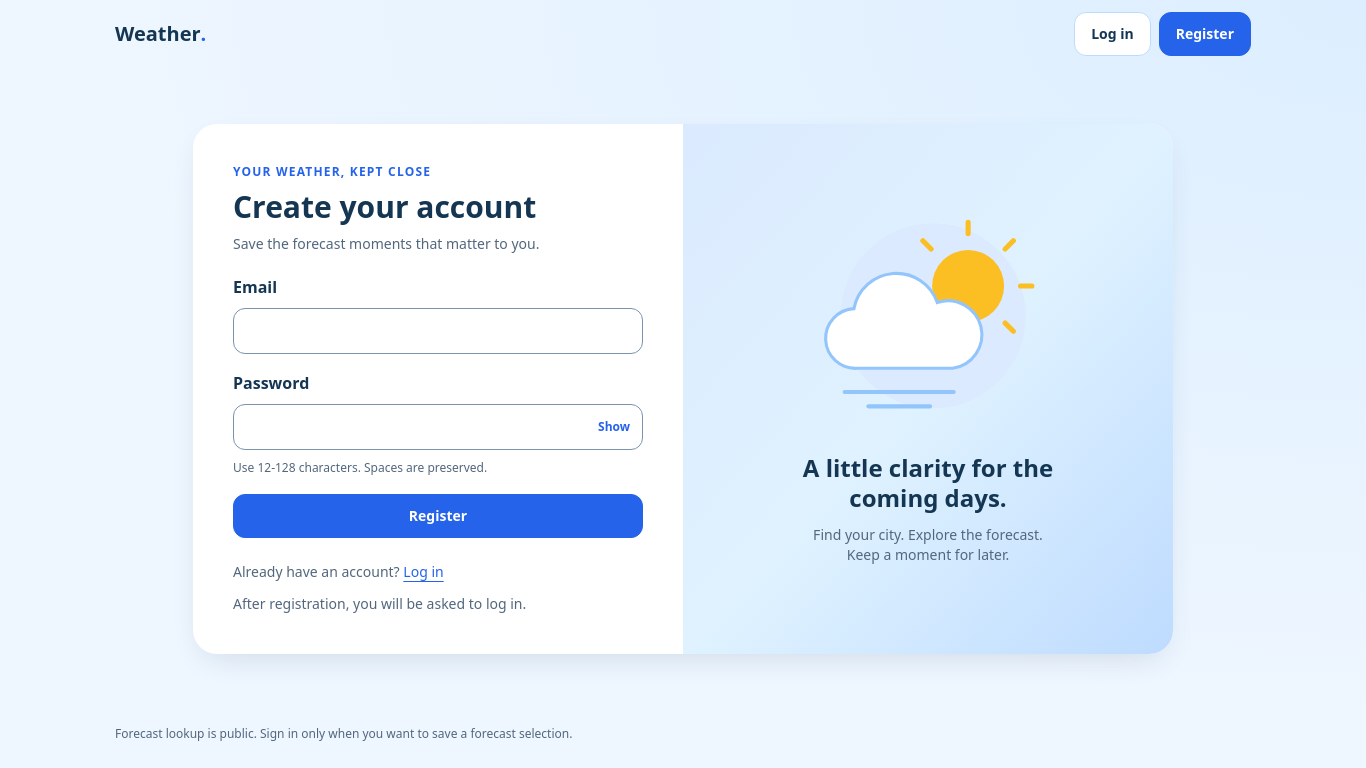
Scenario: weather and authentication journeys › shows one password message and integrates the visibility control without changing spaces
The image size is (1366, 768).
Expected: the button "Register" is enabled, [233,494,643,538]
Type "reader@example.test" into the field labelled "Email" at (438, 330), box [233,308,643,354]
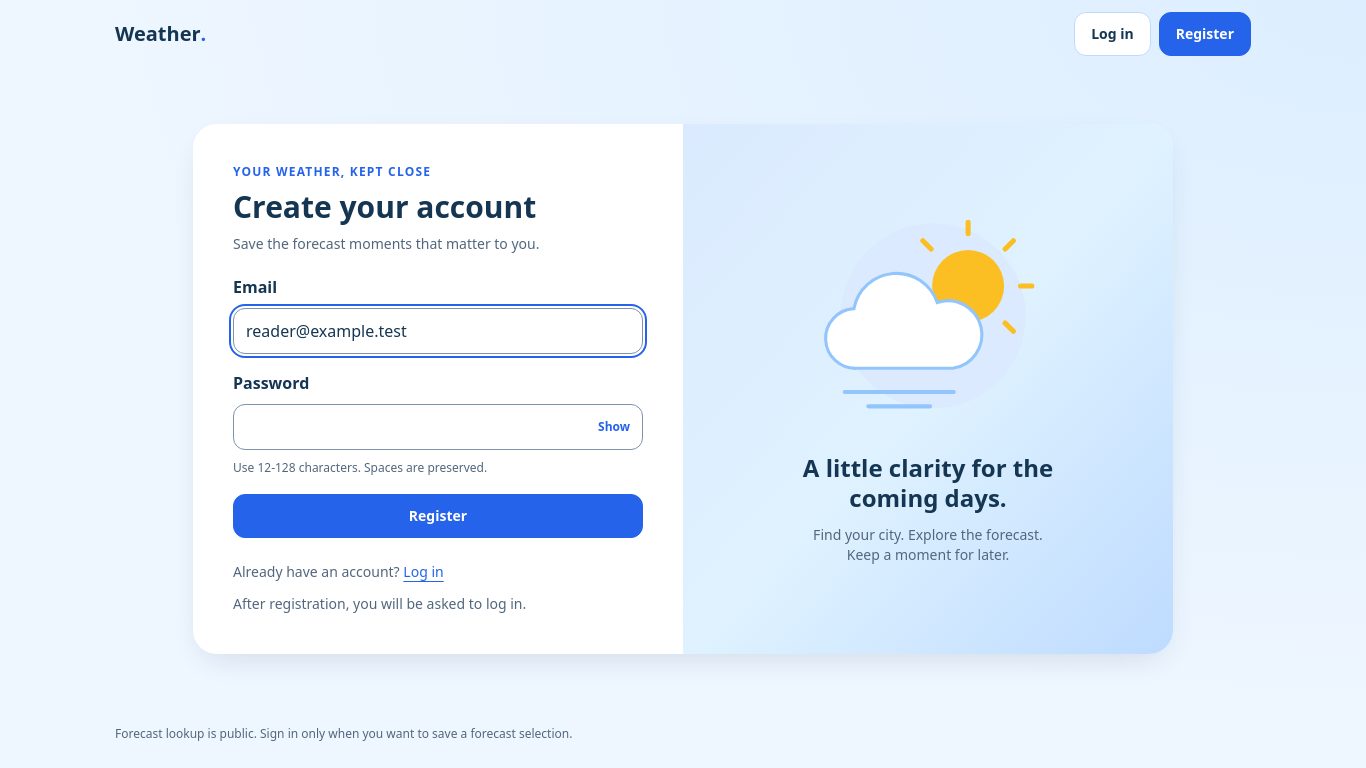
Type "  short  " into the password field labelled "Password" at (438, 426), box [233,404,643,450]
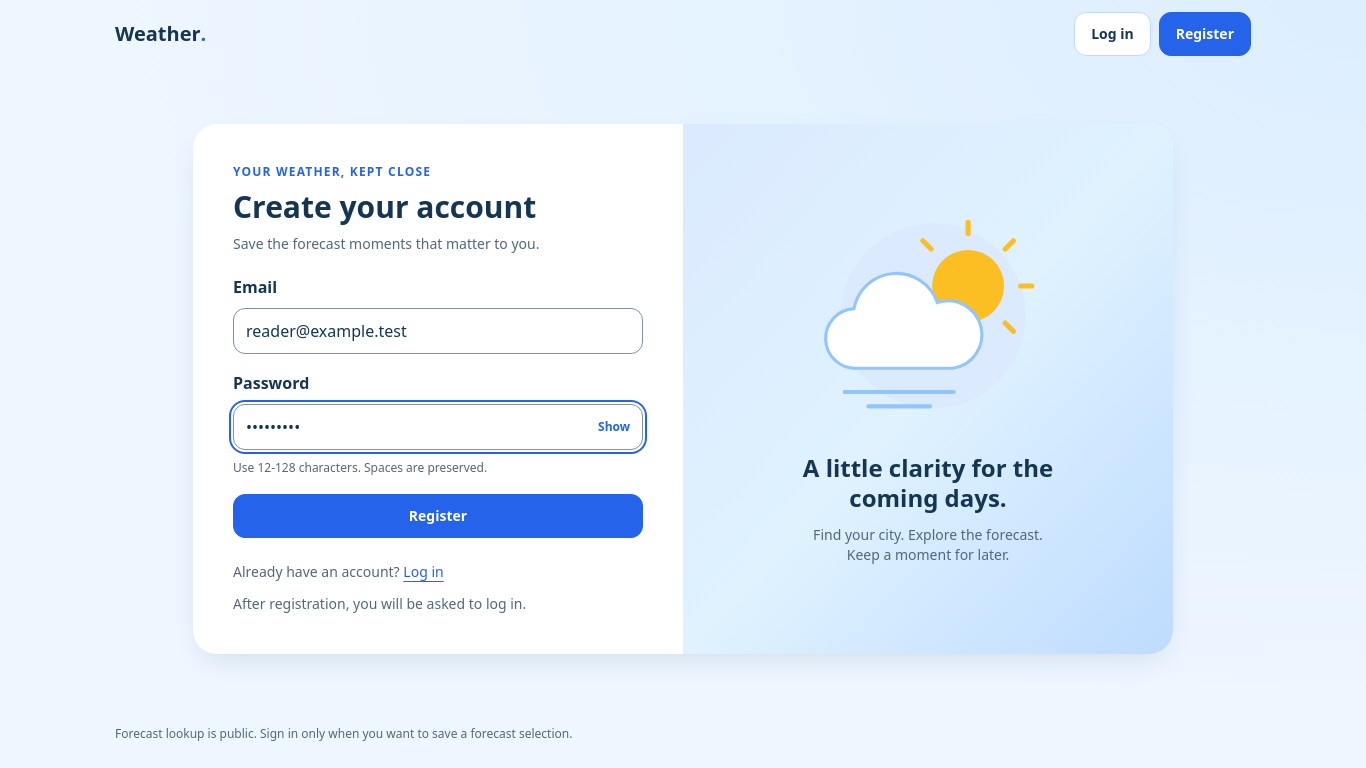
Click the button "Register" at (438, 516), box [233,494,643,538]
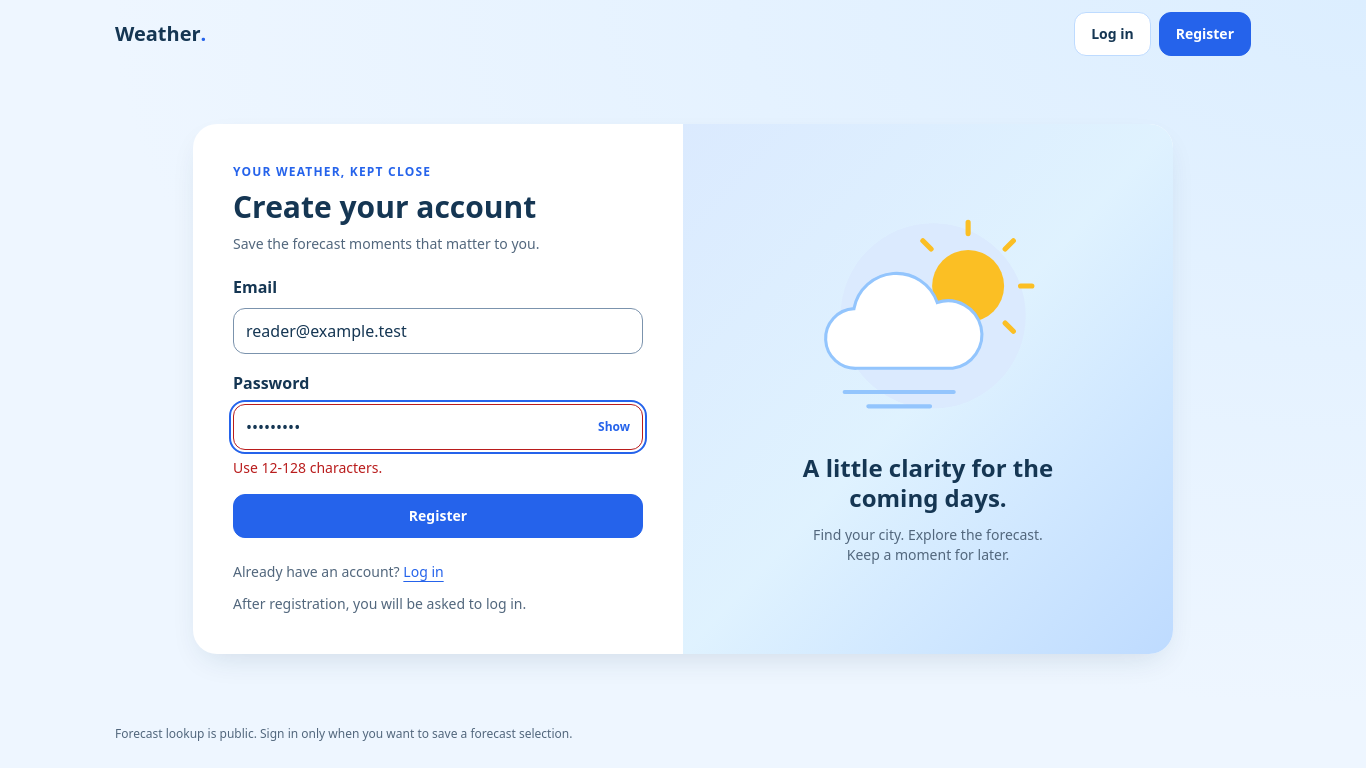
Result: the text "Use 12-128 characters. Spaces are preserved." is gone
Result: the text "Use 12-128 characters." is shown once at [233,458,382,476]
Click the button with aria-label "Show password" at (614, 426), box [589,404,639,448]
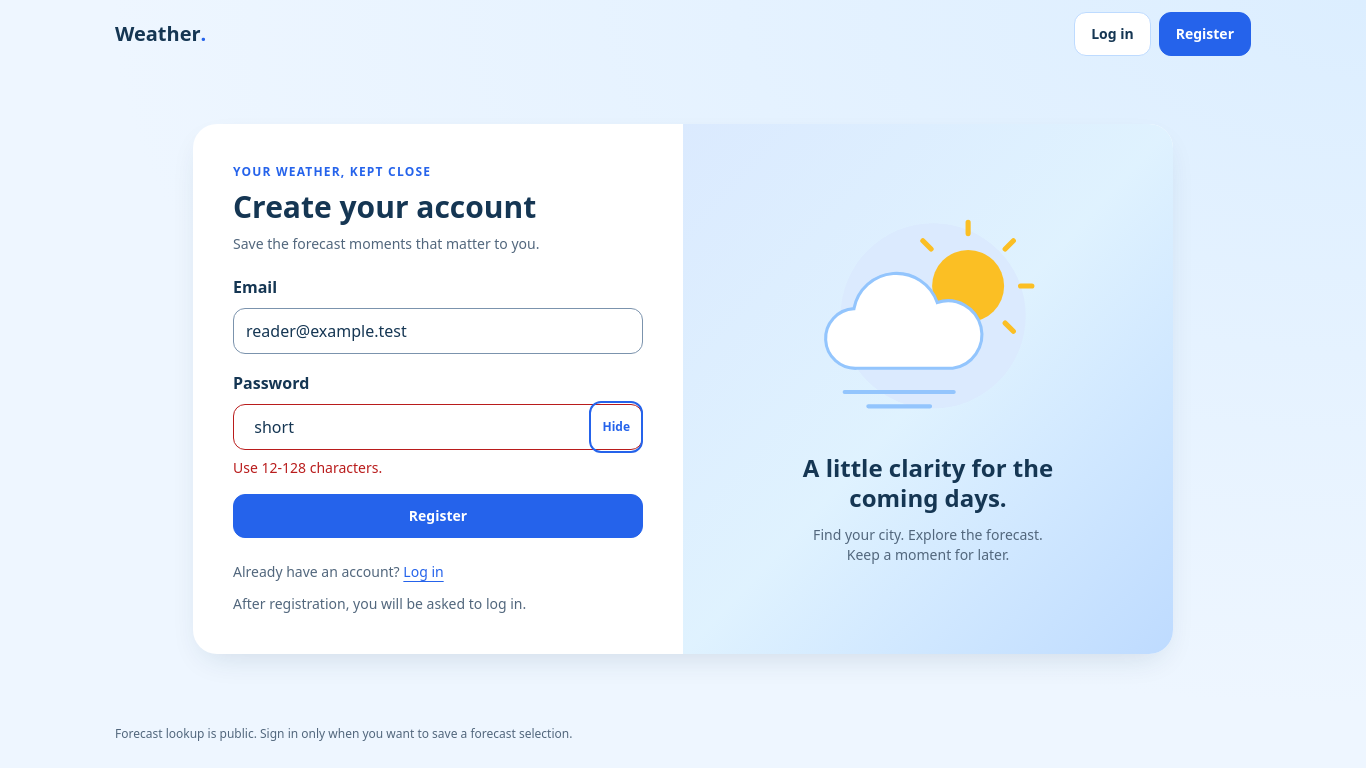
Result: the field labelled "Password" shows its text at [233,404,643,450]
Click the button with aria-label "Hide password" at (616, 426), box [594,404,639,448]
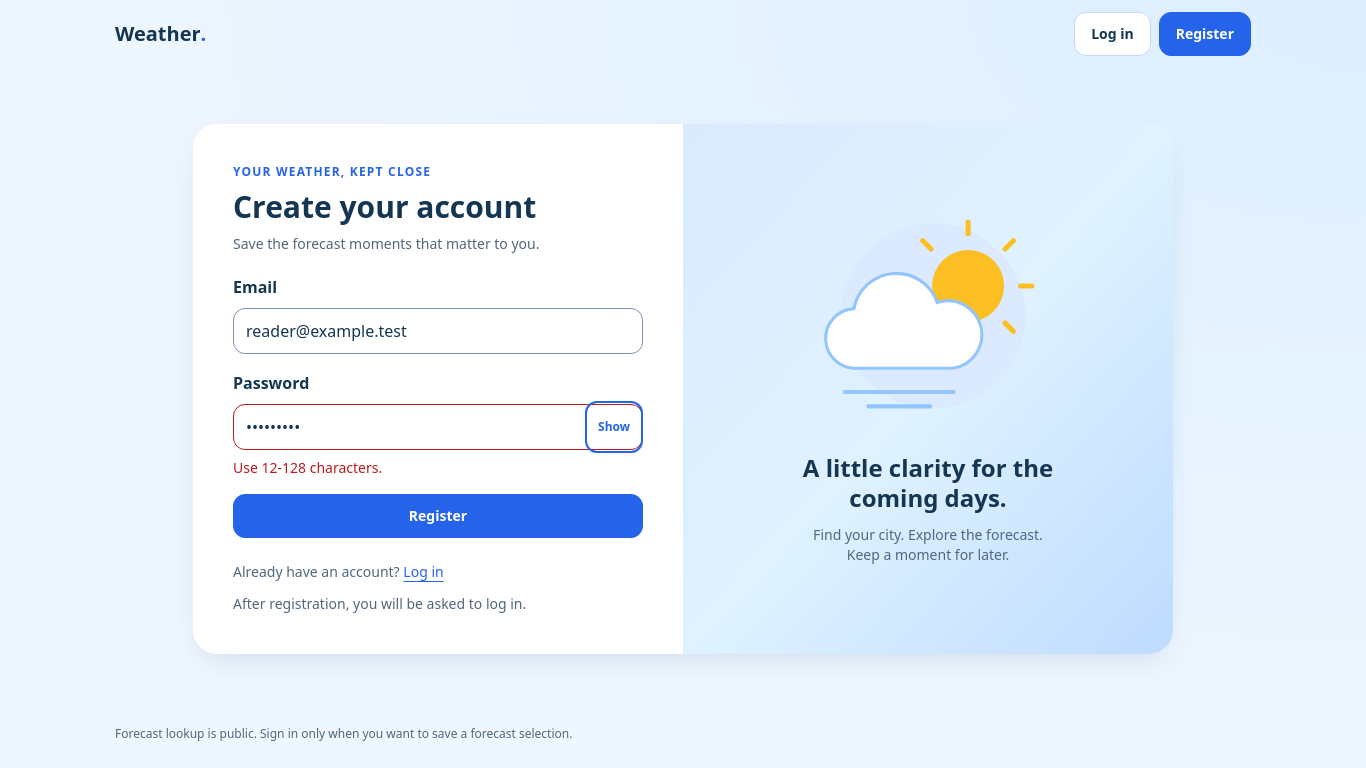
Result: the password field labelled "Password" hides its text at [233,404,643,450]
